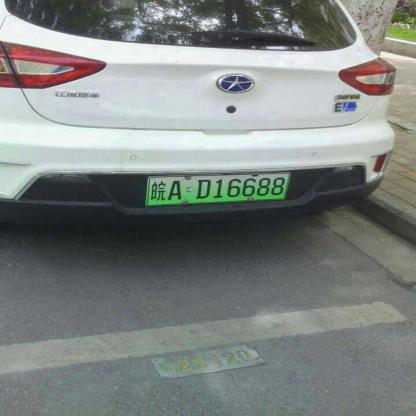lp: (143, 172, 289, 205)
